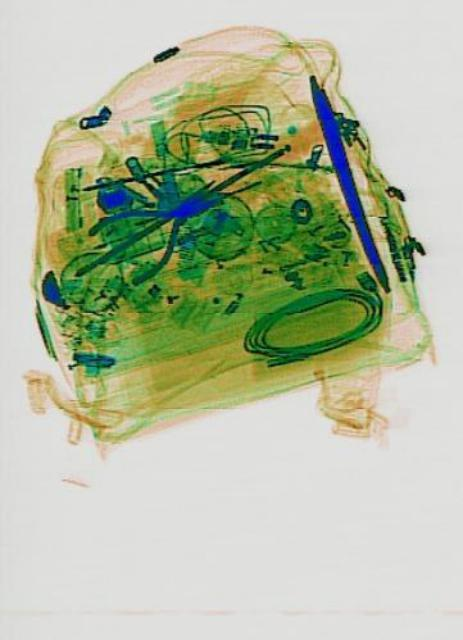Pliers: (83, 154, 230, 300)
